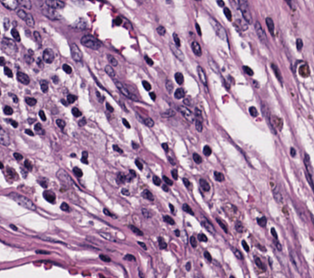nucleus: (8, 193, 35, 210), (115, 81, 136, 99), (57, 169, 77, 187), (210, 18, 226, 40), (41, 2, 60, 19), (238, 0, 251, 23), (270, 182, 283, 203), (81, 35, 100, 49), (1, 37, 15, 54), (179, 106, 194, 121), (255, 22, 266, 42), (70, 43, 82, 61), (170, 44, 183, 60), (269, 115, 282, 130), (271, 63, 281, 82), (201, 219, 214, 233), (197, 66, 206, 85), (42, 48, 53, 63), (44, 0, 64, 8), (17, 71, 29, 84), (72, 18, 86, 29), (216, 218, 227, 232), (1, 0, 18, 9), (0, 128, 9, 145), (265, 17, 273, 35), (43, 190, 55, 202), (191, 41, 201, 55), (128, 225, 142, 235), (100, 232, 115, 241), (234, 19, 246, 30), (174, 87, 185, 98), (142, 189, 153, 200), (105, 65, 115, 77), (199, 178, 209, 190), (25, 13, 34, 26), (17, 9, 27, 20), (107, 54, 117, 65), (182, 204, 193, 214), (174, 72, 183, 84), (103, 208, 115, 217), (223, 7, 231, 20), (33, 31, 41, 44), (161, 109, 174, 117), (116, 173, 126, 183), (163, 215, 174, 224), (18, 0, 30, 8), (173, 33, 180, 46), (26, 50, 33, 63), (262, 104, 269, 117), (243, 66, 253, 75), (143, 117, 153, 126), (56, 119, 65, 129), (73, 167, 82, 177), (214, 171, 223, 181), (142, 208, 152, 217), (257, 216, 266, 226), (11, 29, 19, 40), (25, 97, 36, 105), (203, 145, 211, 156), (24, 159, 32, 170), (235, 221, 243, 232), (158, 237, 166, 248), (40, 80, 47, 92), (165, 80, 172, 92), (195, 108, 202, 120), (195, 119, 202, 131), (156, 26, 165, 35), (62, 64, 71, 73), (67, 94, 76, 103), (113, 144, 122, 153), (163, 176, 172, 185), (38, 178, 47, 187), (144, 55, 152, 65), (249, 106, 257, 116), (122, 118, 130, 128), (35, 123, 43, 133), (193, 153, 201, 163), (197, 233, 207, 241), (195, 23, 201, 35), (4, 67, 12, 76), (142, 81, 150, 90), (9, 93, 17, 102), (72, 108, 81, 116), (81, 151, 87, 163), (135, 159, 142, 169), (271, 228, 277, 239), (242, 240, 248, 251), (4, 106, 12, 114), (60, 202, 68, 210), (138, 241, 146, 249), (96, 91, 103, 100), (13, 152, 22, 159), (153, 176, 160, 185), (39, 110, 45, 120), (171, 169, 177, 179), (190, 236, 196, 246), (114, 17, 121, 25), (106, 103, 113, 111), (9, 120, 17, 127), (4, 18, 9, 29), (183, 178, 189, 187), (78, 118, 85, 125), (252, 80, 258, 88), (25, 129, 33, 135), (162, 143, 168, 151), (162, 184, 168, 191), (150, 92, 155, 100), (10, 224, 16, 230), (276, 240, 280, 249), (217, 1, 224, 6), (52, 75, 57, 82), (121, 189, 128, 194), (0, 57, 4, 65), (61, 99, 67, 104), (184, 99, 190, 104), (132, 142, 137, 148), (169, 157, 174, 163), (169, 204, 173, 211), (175, 230, 179, 235), (71, 153, 75, 156), (0, 162, 2, 168)
